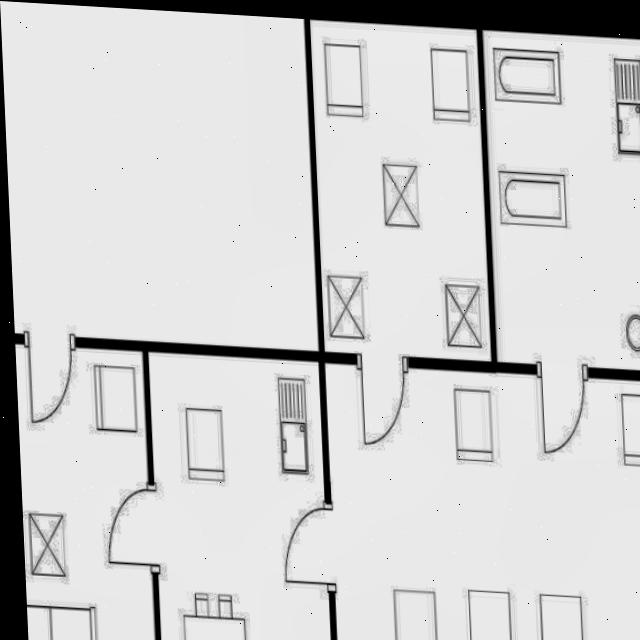room: (325, 362, 640, 640), (310, 11, 491, 368), (148, 343, 331, 640), (483, 29, 640, 369), (15, 337, 155, 640)
